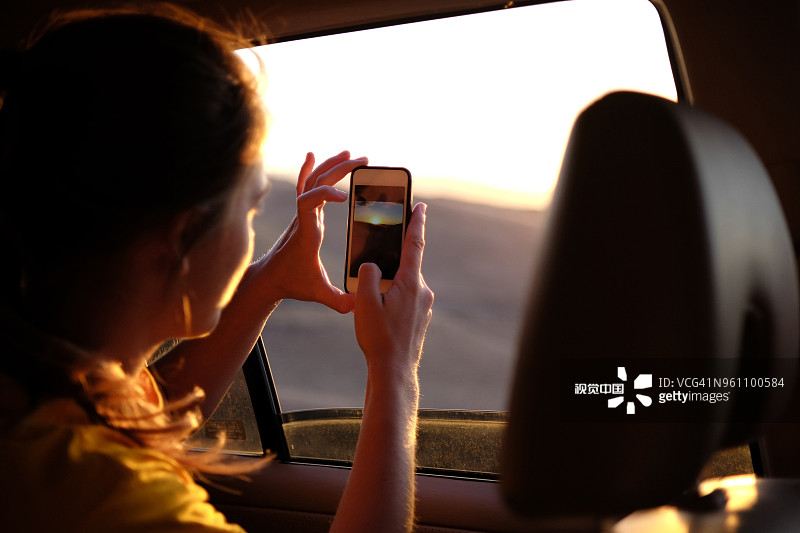taking photos: (246, 134, 483, 399)
